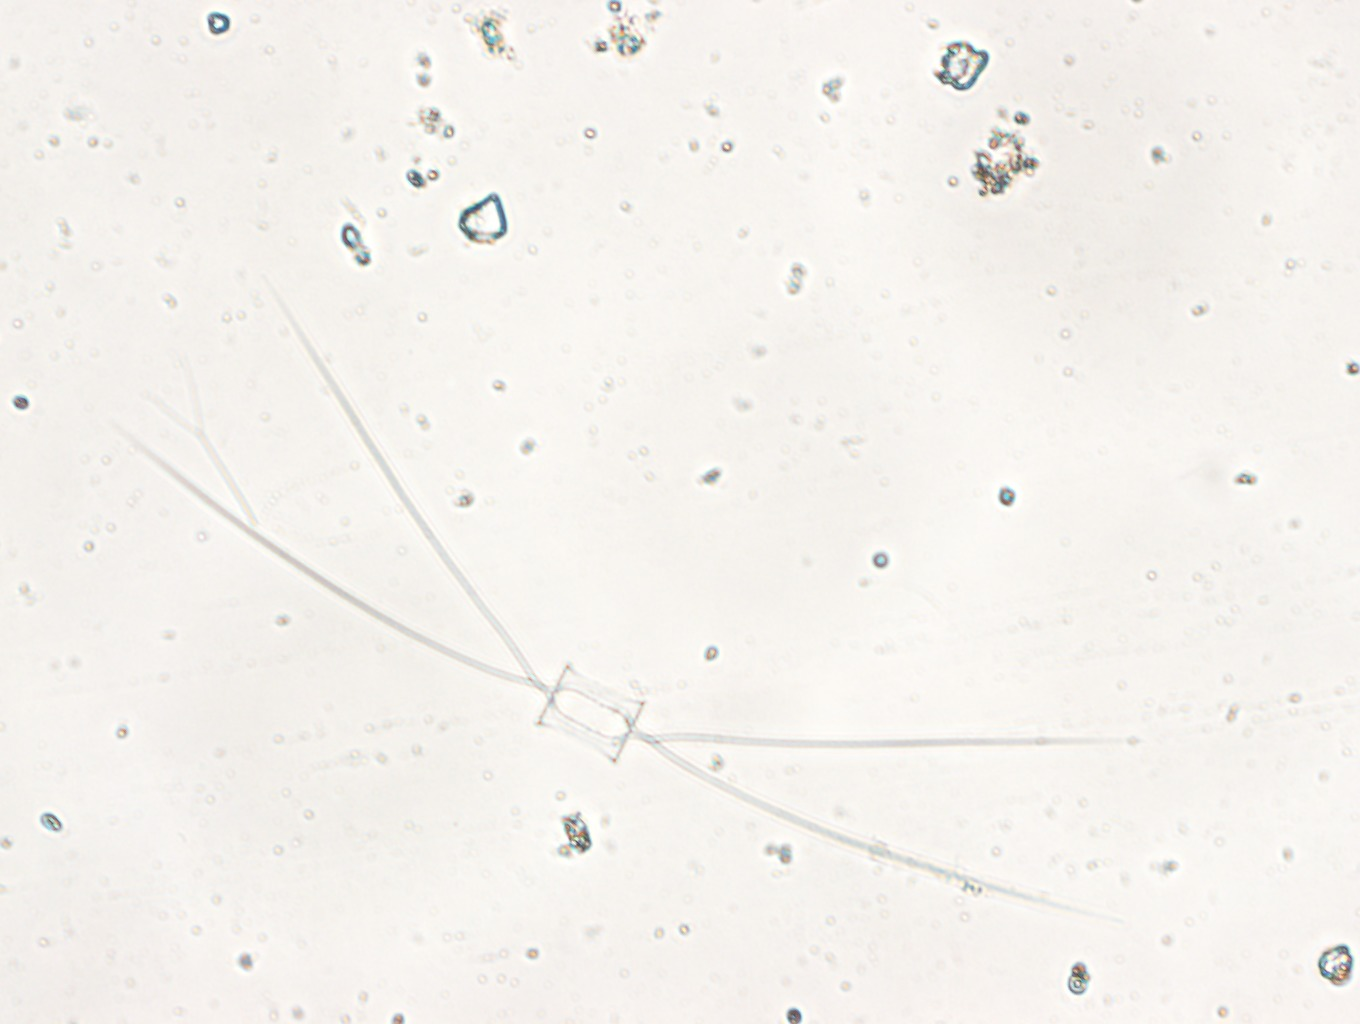chaetoceros: (95, 282, 1143, 907)
